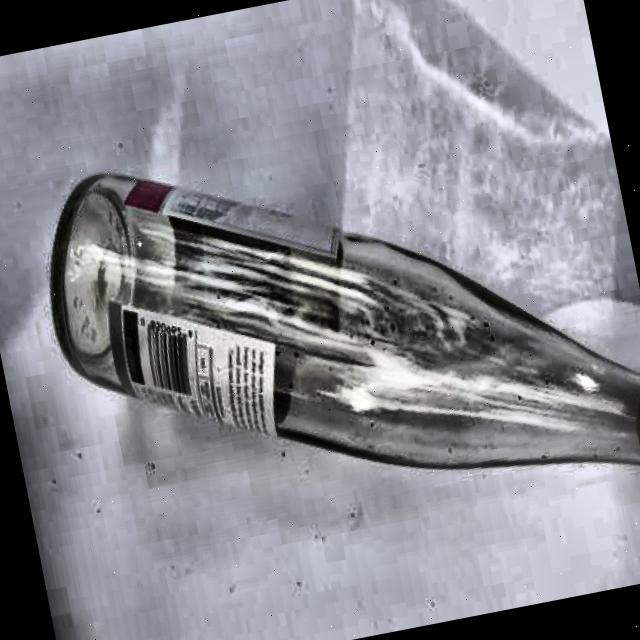glass: (32, 79, 640, 574)
